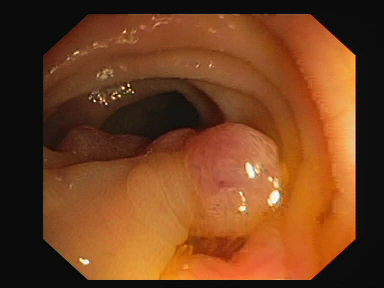polyp: (128, 102, 303, 227)
